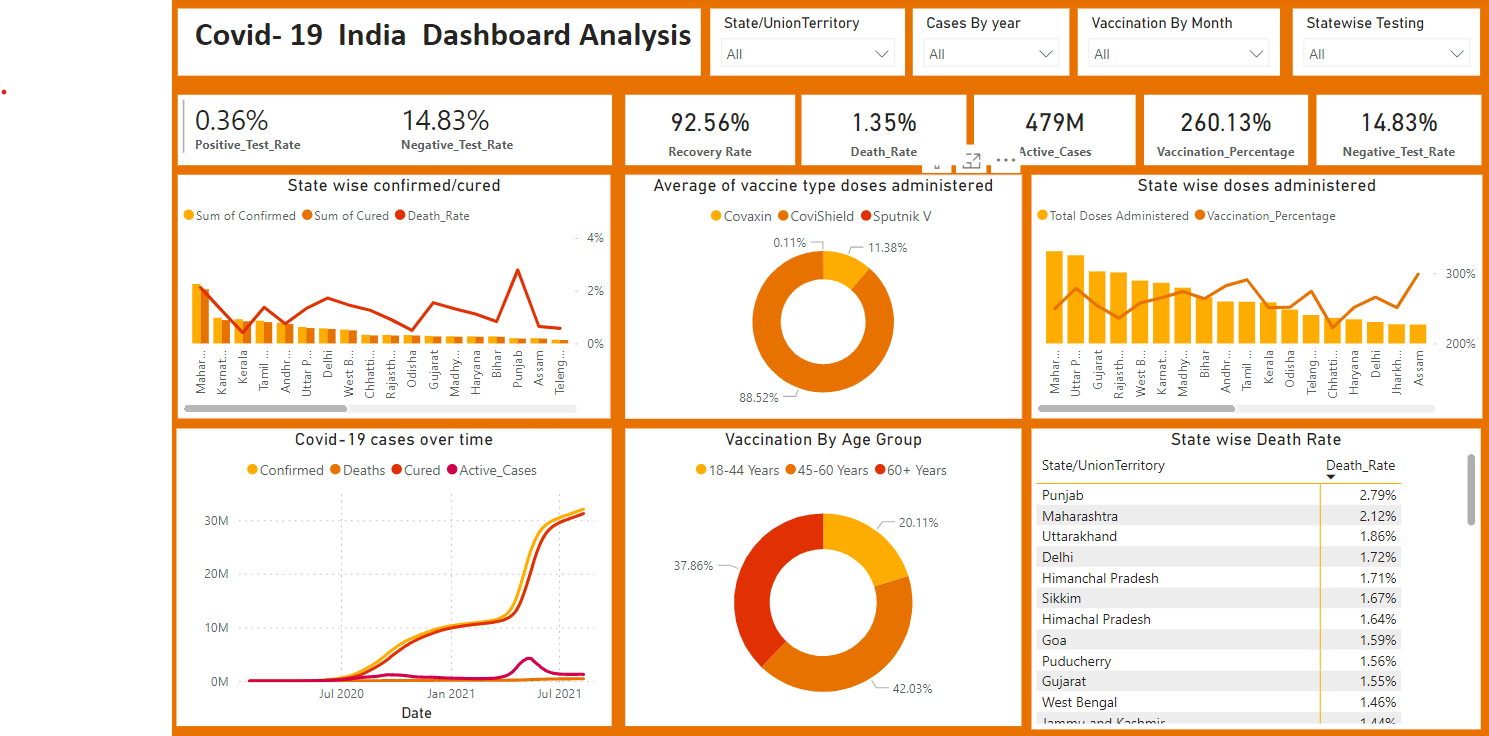

This screenshot's page, from the dashboard's own definition file:
{"tool":"powerbi","page":{"name":"Page 1","canvas":[1280,720],"ordinal":0},"visuals":[{"type":"lineChart","title":"Covid-19 cases over time","fields":{"Category":["covid_19_india.Date"],"Y":["Sum(covid_19_india.Confirmed)","Sum(covid_19_india.Deaths)","Sum(covid_19_india.Cured)","covid_19_india.Active_Cases"]},"box":[7.5,417.5,420,287.5],"z":0},{"type":"pivotTable","title":"State wise Death Rate","fields":{"Rows":["covid_19_india.State/UnionTerritory"],"Values":["covid_19_india.Death_Rate"]},"box":[832.5,417.5,433.8,290],"z":1000},{"type":"lineClusteredColumnComboChart","title":"State wise confirmed/cured","fields":{"Category":["covid_19_india.State/UnionTerritory"],"Y2":["covid_19_india.Death_Rate"],"Y":["Sum(covid_19_india.Confirmed)","Sum(covid_19_india.Cured)"]},"box":[8.8,172.5,417.5,235],"z":2000},{"type":"card","fields":{"Values":["covid_19_india.Active_Cases"]},"box":[777,95,156,68],"z":3000},{"type":"card","fields":{"Values":["covid_19_india.Active_Cases"]},"box":[624,317,146,68],"z":4000},{"type":"donutChart","title":"Average of vaccine type doses administered","fields":{"Y":["Avg(covid_vaccine_statewise. Covaxin (Doses Administered))","Avg(covid_vaccine_statewise.CoviShield (Doses Administered))","Avg(covid_vaccine_statewise.Sputnik V (Doses Administered))"]},"box":[440,172.5,382.5,235],"z":5000},{"type":"donutChart","title":"Vaccination By Age Group","fields":{"Y":["Sum(covid_vaccine_statewise.18-44 Years(Individuals Vaccinated))","Sum(covid_vaccine_statewise.45-60 Years(Individuals Vaccinated))","Sum(covid_vaccine_statewise.60+ Years(Individuals Vaccinated))"]},"box":[440,417.5,382.5,287.5],"z":6000},{"type":"textbox","box":[9,12,505,65],"z":7000},{"type":"slicer","fields":{"Values":["covid_19_india.State/UnionTerritory"]},"box":[522,12,188,65],"z":8000},{"type":"slicer","fields":{"Values":["covid_19_india.Date (groups)"]},"box":[718,12,151,65],"z":9000},{"type":"lineStackedColumnComboChart","title":"State wise doses administered","fields":{"Category":["covid_vaccine_statewise.State"],"Y2":["covid_vaccine_statewise.Total_Vaccination_Percentage"],"Y":["Sum(covid_vaccine_statewise.Total Doses Administered)"]},"box":[832.5,172.5,435,235],"z":10000},{"type":"slicer","fields":{"Values":["covid_vaccine_statewise.Updated On (groups)"]},"box":[877,12,195,65],"z":11000},{"type":"multiRowCard","fields":{"Values":["StatewiseTestingDetails.Positive_Test_Rate","StatewiseTestingDetails.Negative_Test_Rate"]},"box":[9,95,419,68],"z":12000},{"type":"card","fields":{"Values":["covid_vaccine_statewise.Total_Vaccination_Percentage"]},"box":[941,95,158,68],"z":13000},{"type":"card","fields":{"Values":["StatewiseTestingDetails.Negative_Test_Rate"]},"box":[1108,95,159,68],"z":14000},{"type":"card","fields":{"Values":["covid_19_india.Recovery Rate"]},"box":[440,95,164,68],"z":15000},{"type":"card","fields":{"Values":["covid_19_india.Death_Rate"]},"box":[611,95,159,68],"z":16000},{"type":"slicer","fields":{"Values":["StatewiseTestingDetails.State"]},"box":[1085,12,181,65],"z":17000}]}

Visuals, with their boxes in screenshot pixels (x1, y1, x2, y2):
"Covid-19 cases over time" lineChart: [left=167, top=425, right=606, bottom=726]
"State wise Death Rate" pivotTable: [left=1030, top=425, right=1484, bottom=729]
"State wise confirmed/cured" lineClusteredColumnComboChart: [left=168, top=169, right=605, bottom=415]
card - covid_19_india.Active_Cases: [left=972, top=88, right=1135, bottom=159]
card - covid_19_india.Active_Cases: [left=812, top=320, right=965, bottom=391]
"Average of vaccine type doses administered" donutChart: [left=619, top=169, right=1019, bottom=415]
"Vaccination By Age Group" donutChart: [left=619, top=425, right=1019, bottom=726]
textbox: [left=168, top=1, right=697, bottom=69]
slicer - covid_19_india.State/UnionTerritory: [left=705, top=1, right=902, bottom=69]
slicer - covid_19_india.Date (groups): [left=910, top=1, right=1068, bottom=69]
"State wise doses administered" lineStackedColumnComboChart: [left=1030, top=169, right=1485, bottom=415]
slicer - covid_vaccine_statewise.Updated On (groups): [left=1076, top=1, right=1281, bottom=69]
multiRowCard - StatewiseTestingDetails.Positive_Test_Rate x StatewiseTestingDetails.Negative_Test_Rate: [left=168, top=88, right=607, bottom=159]
card - covid_vaccine_statewise.Total_Vaccination_Percentage: [left=1143, top=88, right=1309, bottom=159]
card - StatewiseTestingDetails.Negative_Test_Rate: [left=1318, top=88, right=1485, bottom=159]
card - covid_19_india.Recovery Rate: [left=619, top=88, right=791, bottom=159]
card - covid_19_india.Death_Rate: [left=798, top=88, right=965, bottom=159]
slicer - StatewiseTestingDetails.State: [left=1294, top=1, right=1483, bottom=69]
